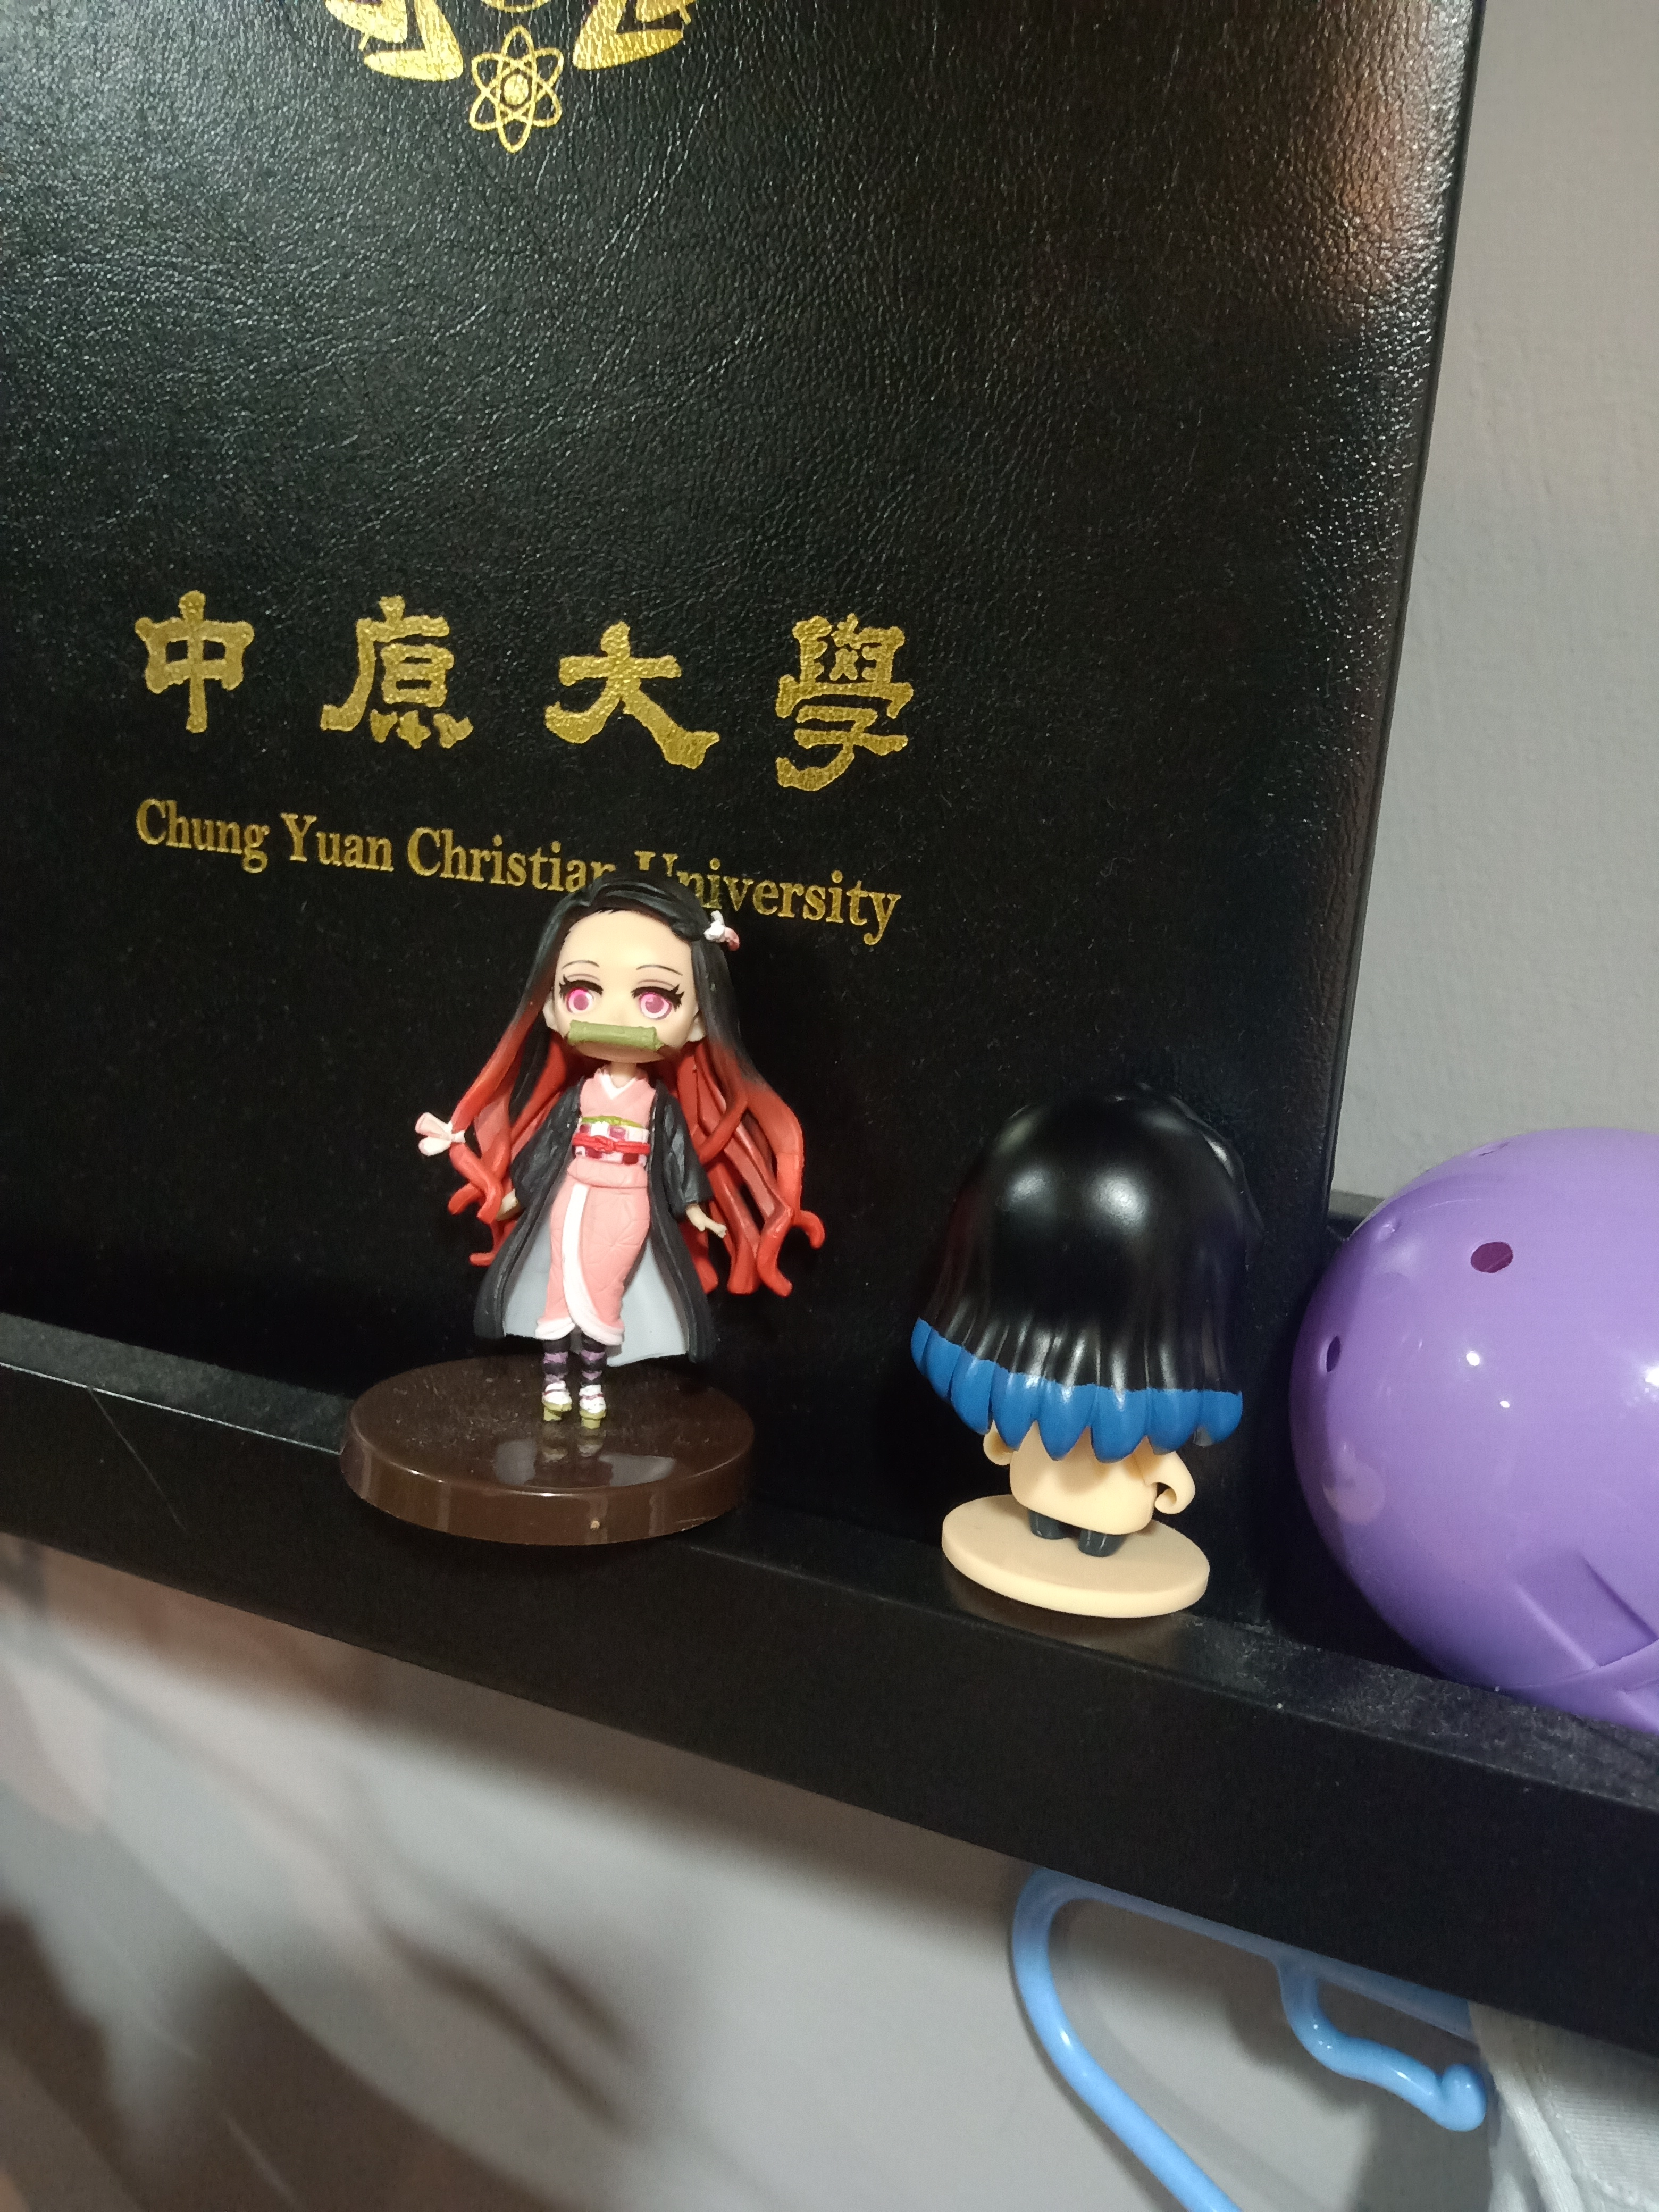Inosuke: (884, 1054, 1293, 1655)
Nezuko: (328, 853, 850, 1566)
